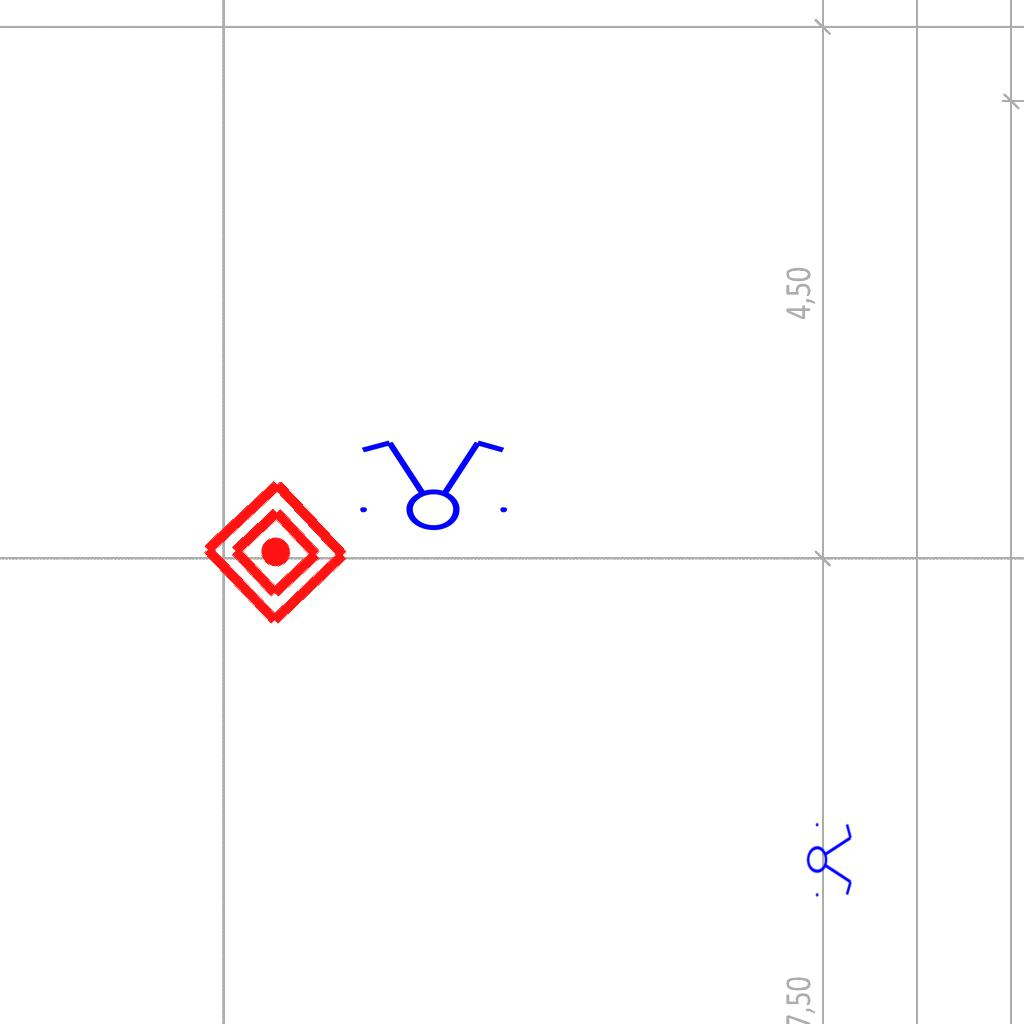NAM-Nichtautomatischer_Melder: (195, 472, 356, 633)
Serienschalter: (348, 436, 516, 532), (806, 817, 854, 901)
